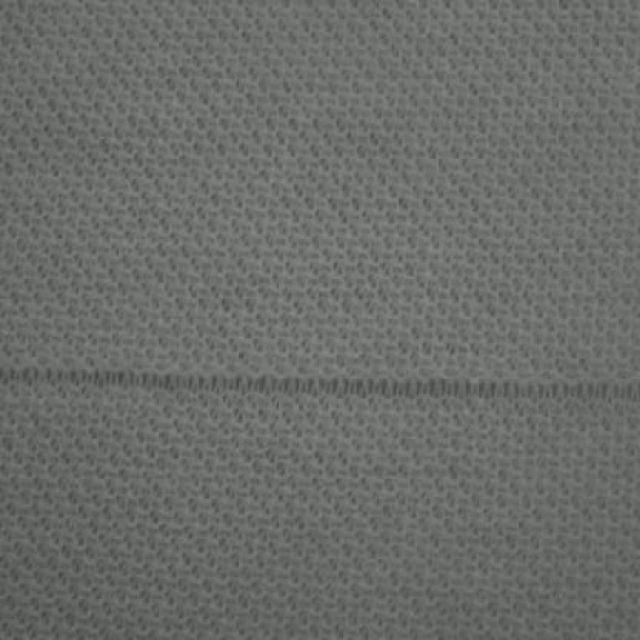Line: (4, 367, 638, 406)
